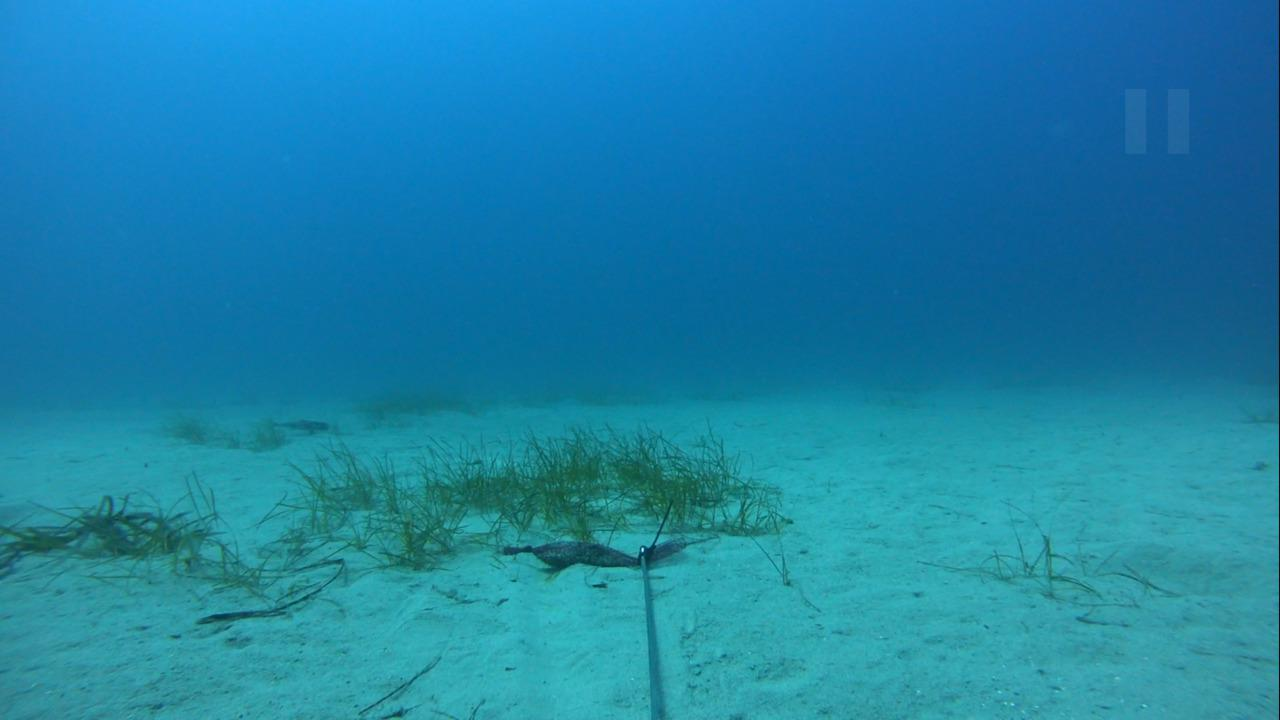dactylopterus: (260, 414, 328, 441)
